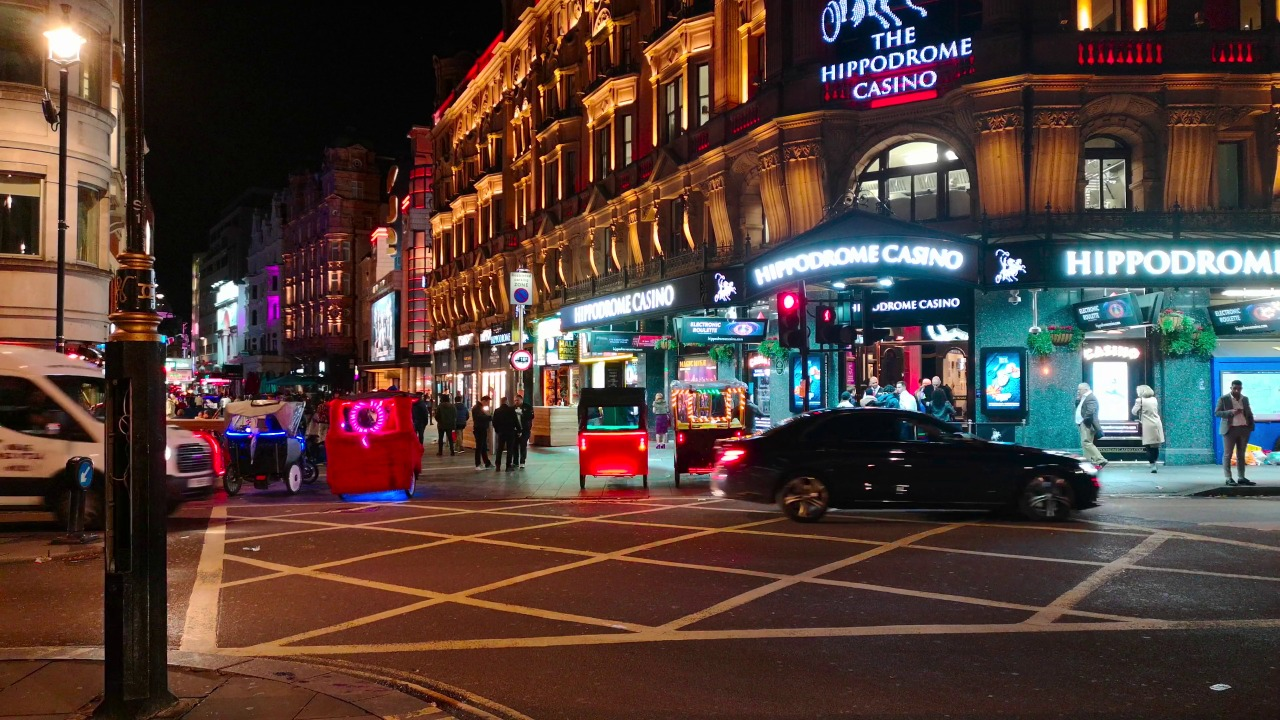car: (706, 404, 1106, 523), (1, 340, 215, 533), (328, 395, 426, 505), (222, 397, 322, 495), (669, 379, 751, 492), (576, 386, 650, 492), (181, 425, 231, 493)
person: (1219, 379, 1257, 487), (1071, 381, 1111, 473), (1131, 382, 1169, 476), (472, 393, 499, 472), (494, 396, 517, 473), (510, 395, 533, 469), (648, 390, 672, 452), (433, 394, 455, 455), (733, 388, 765, 429), (451, 391, 467, 454), (413, 391, 429, 448), (928, 389, 954, 420), (893, 379, 915, 414), (927, 377, 956, 403), (878, 384, 901, 412), (864, 375, 889, 397), (861, 384, 881, 405), (844, 383, 861, 407), (918, 374, 933, 395), (838, 389, 850, 407)
